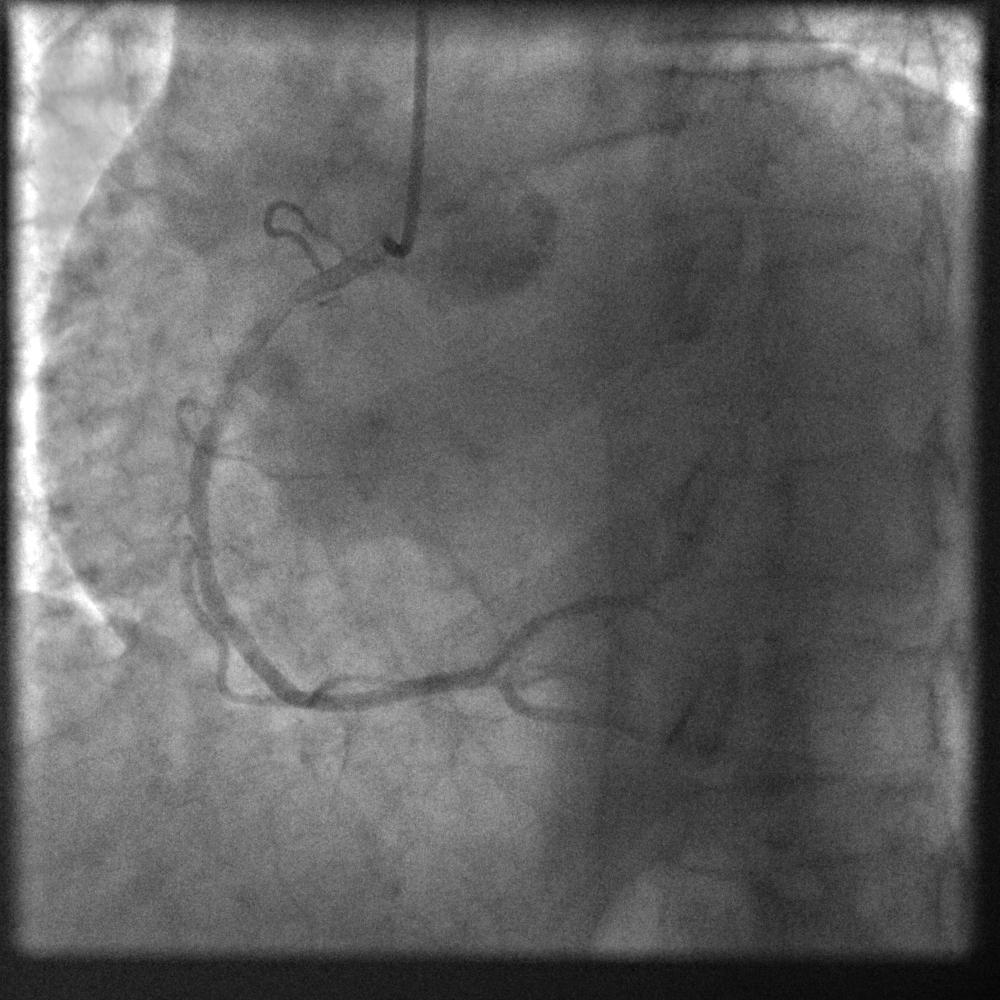Stenosis: (247, 291, 313, 328)
